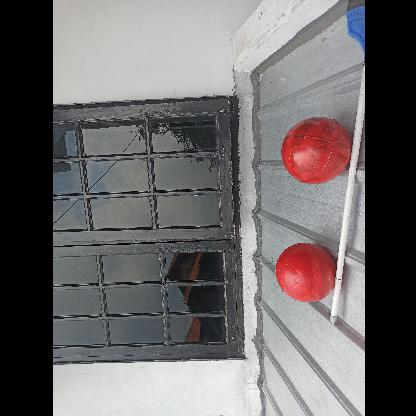red_ball: (280, 118, 348, 186), (274, 244, 334, 304)
